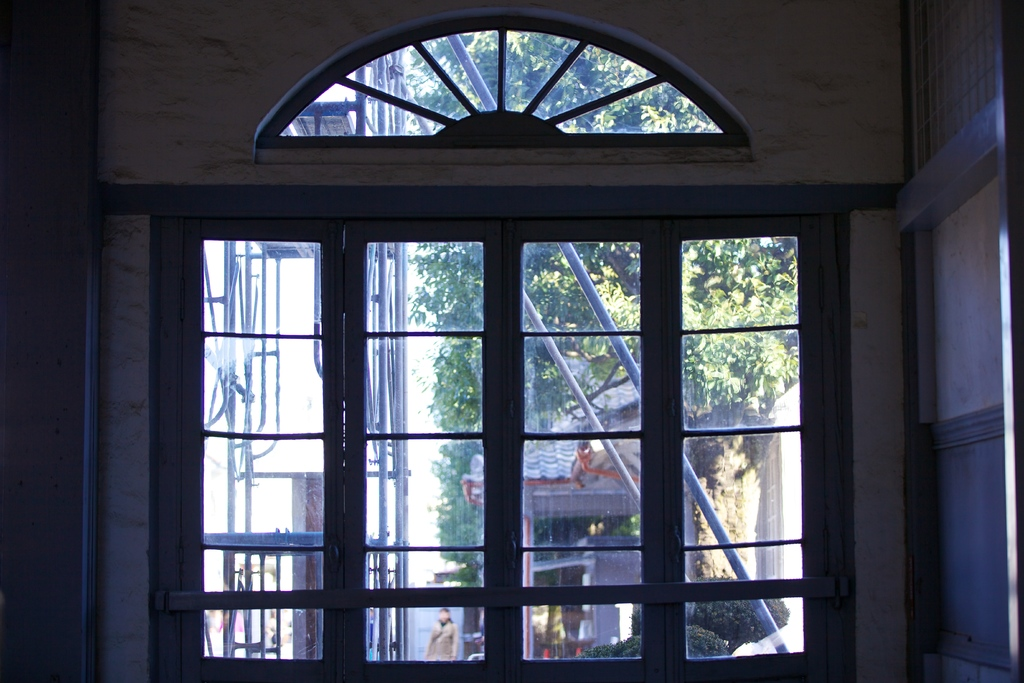Tree: (406, 27, 685, 586), (531, 96, 800, 581)
